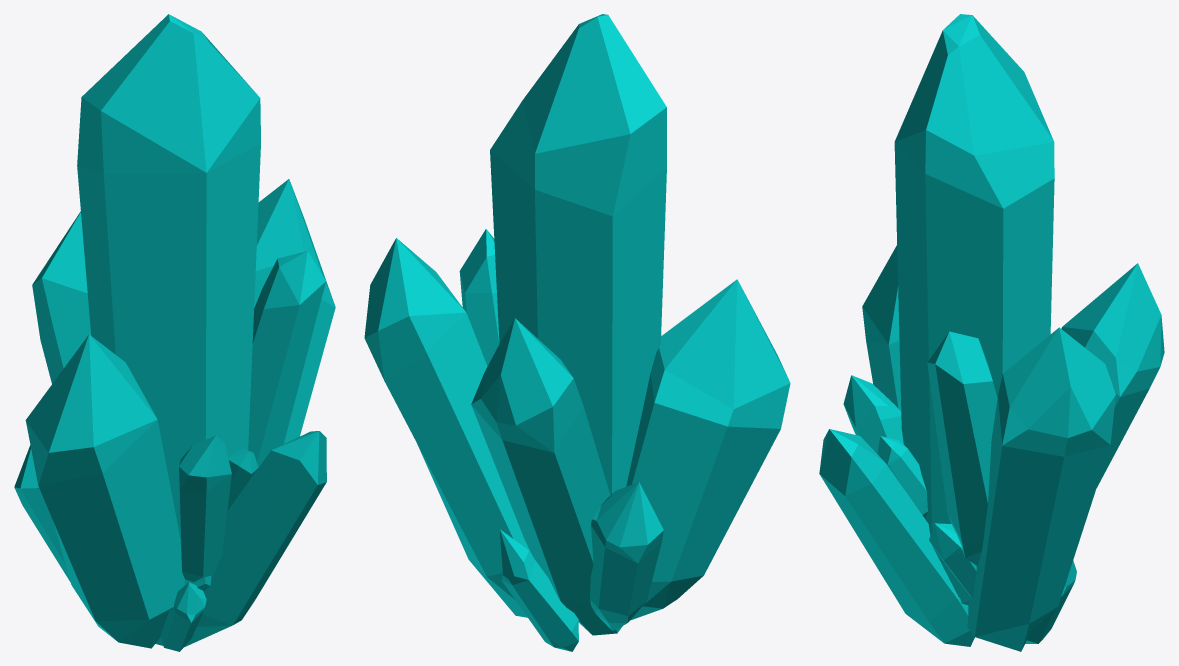
File: dfk_crystal_02.fbx
3 renders of one model, left to right at view 1: azimuth 30°, elevation 25°; view 2: azimuth 150°, elevation 25°; view 3: azimuth 270°, elevation 25°, orthographic. The views are drawn at different scales.
Visible parts, largest first — view 1: Crystal02; view 2: Crystal02; view 3: Crystal02.
Boxes of the visible parts, <box> form: Crystal02: <box>14,14,335,651</box>; Crystal02: <box>364,14,790,651</box>; Crystal02: <box>819,14,1164,651</box>.
Bounding box in the file's own units: 0.3427 × 0.599 × 0.2979.
